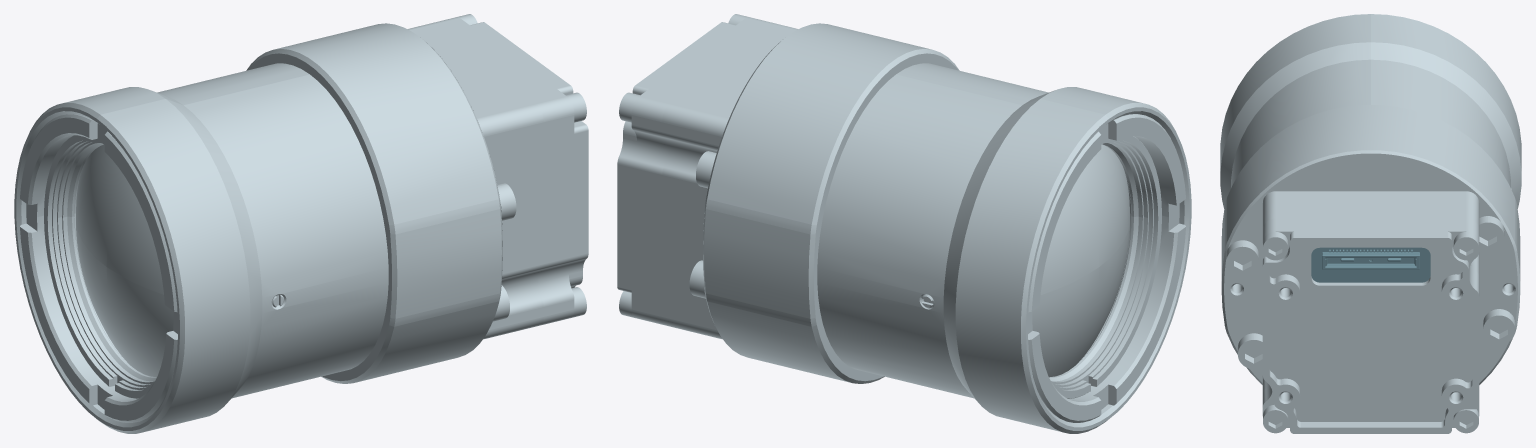
File: real-module.glb
3 views of the same model, side by side, from view 1: azimuth 30°, elevation 25°; view 2: azimuth 150°, elevation 25°; view 3: azimuth 270°, elevation 25° (orthographic). The views are drawn at different scales.
Visible parts, largest first — view 1: group_01, group_05; view 2: group_01, group_05; view 3: group_01, group_05, group_11, group_07, group_09, group_06, group_08.
Part boxes in pixels (x1,y1,x2,y2): group_01: (14, 23, 543, 433); group_05: (426, 17, 588, 325); group_01: (662, 23, 1191, 433); group_05: (617, 17, 779, 325); group_01: (1220, 14, 1521, 393); group_05: (1262, 218, 1479, 433); group_11: (1311, 247, 1430, 282); group_07: (1263, 231, 1288, 260); group_09: (1453, 231, 1478, 260); group_06: (1263, 405, 1288, 433); group_08: (1453, 409, 1478, 433).
Bounding box in the file's own units: 0.0519 × 0.0357 × 0.0353.
